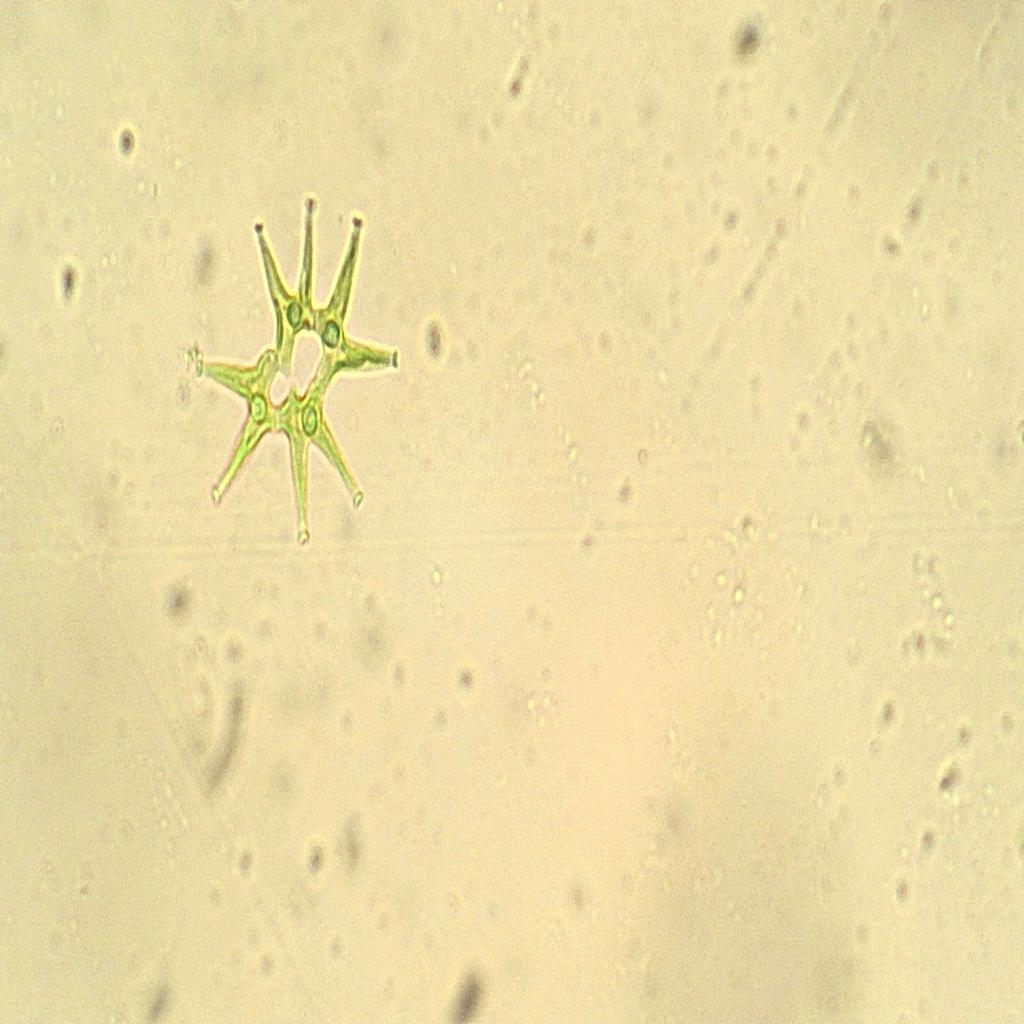Pediastrum_75FO: (184, 190, 410, 556)
